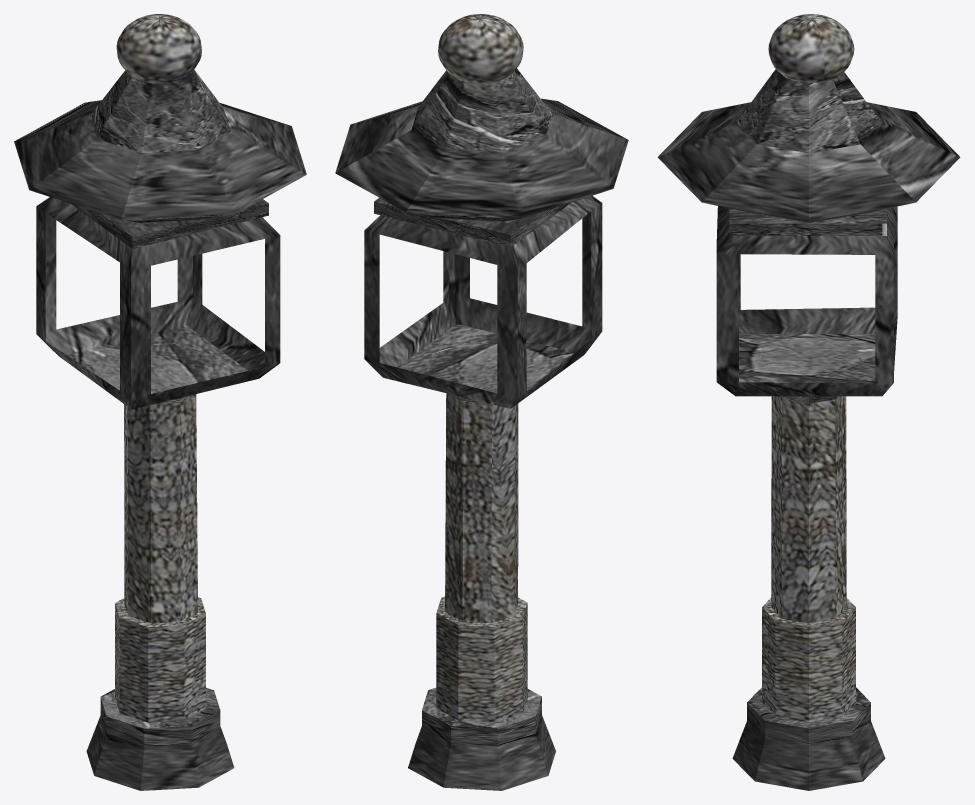
Rendered from lantern_1.glb.
The picture shows the model from 3 angles, left to right: view 1: azimuth 30°, elevation 25°; view 2: azimuth 150°, elevation 25°; view 3: azimuth 270°, elevation 25°; orthographic projection.
Visible parts, largest first — view 1: polySurface170; view 2: polySurface170; view 3: polySurface170.
Boxes of the visible parts, <box> form: polySurface170: <box>14,14,306,790</box>; polySurface170: <box>335,14,628,790</box>; polySurface170: <box>657,14,960,790</box>.
Size of the model in its own units: 0.5416 by 1.46 by 0.5416.
Materials: 1 (1 with a texture image).
